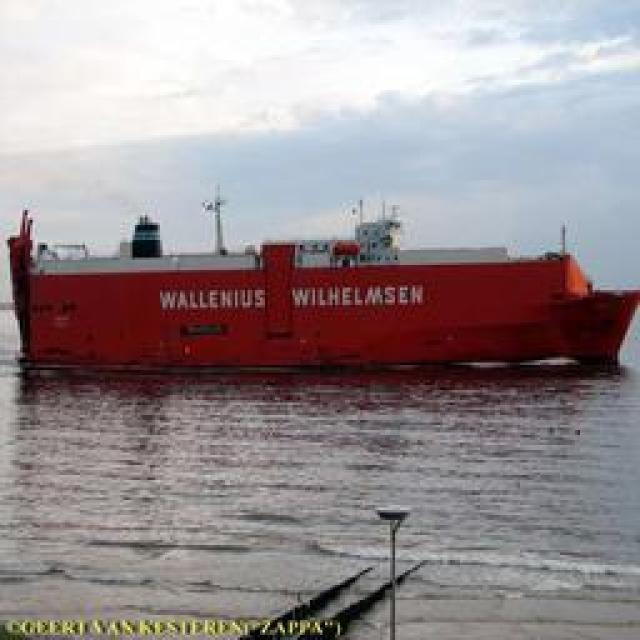ship2: (6, 182, 639, 377)
